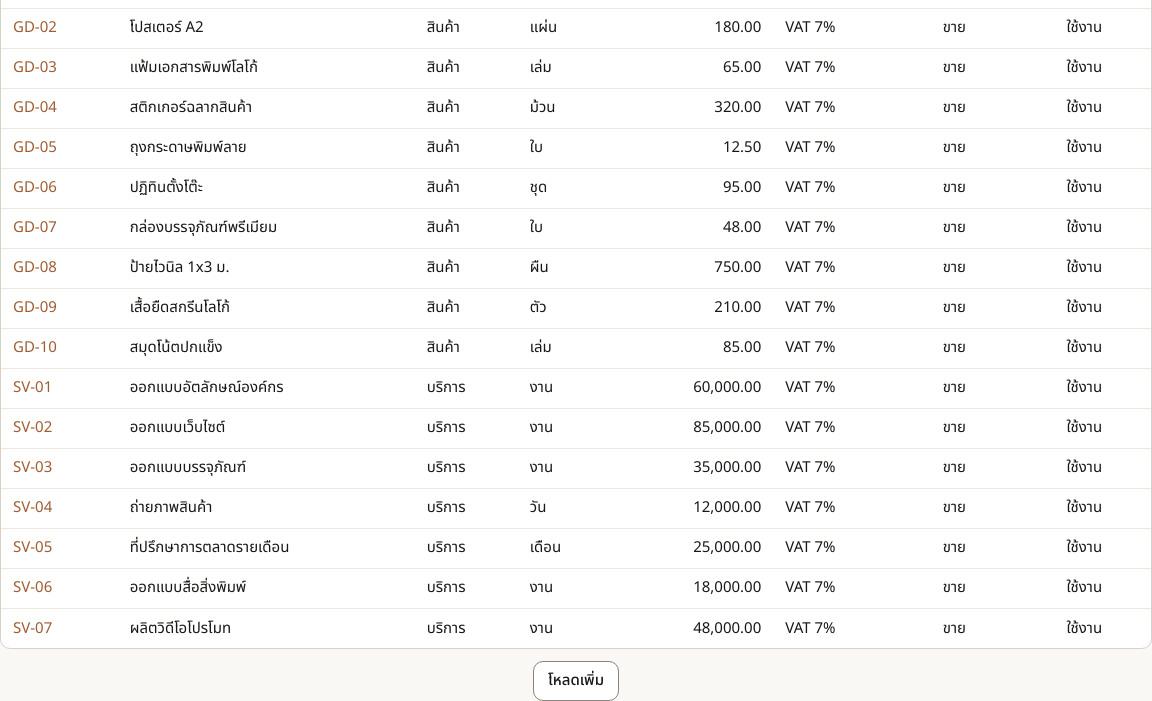
Scenario: item list and form (a record kind with no detail page) › saving from the row dialog updates the list and the item is usable as a purchase item
(page scrolled)
Click the button "SV-02".
click(33, 428)  # box [13,416,52,440]
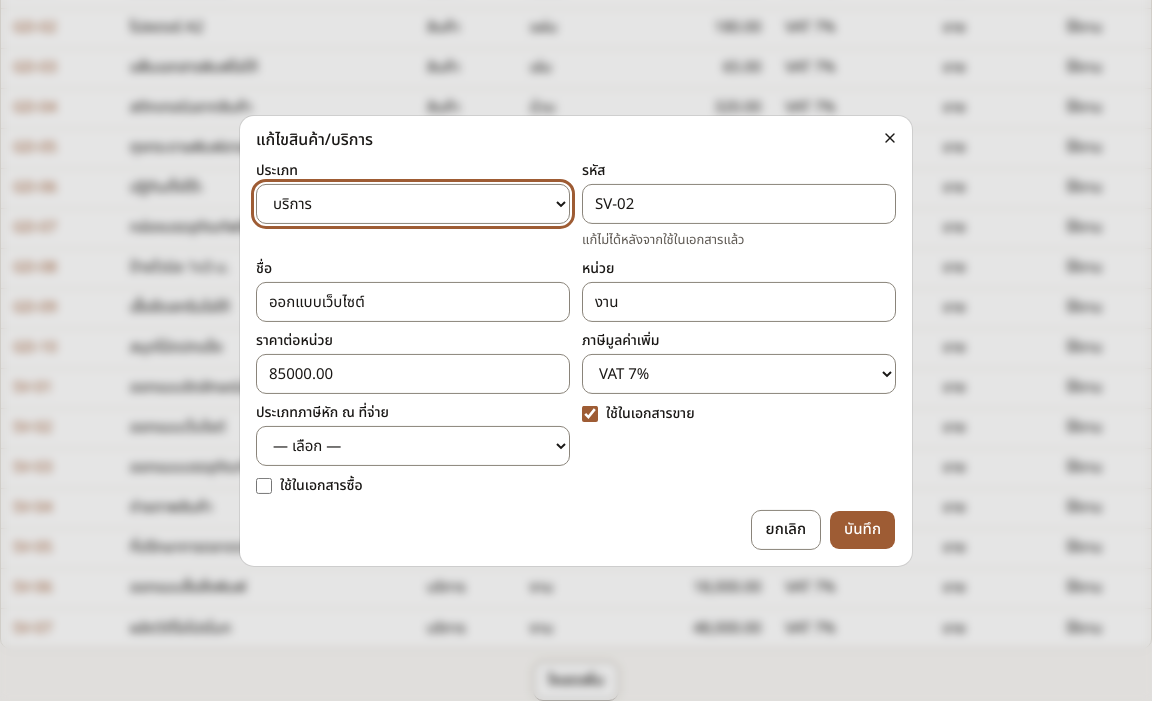
Click the checkbox labelled "ใช้ในเอกสารซื้อ".
click(264, 486)  # box [256,478,272,494]
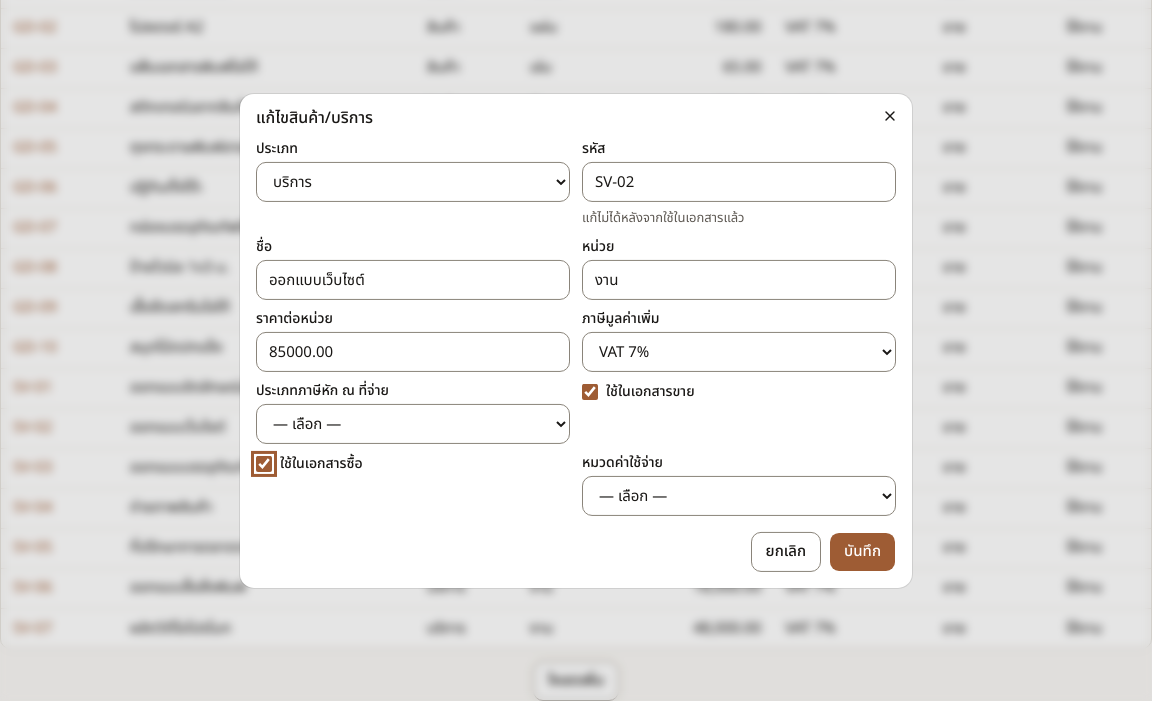
Select "ค่าบริการ" in the dropdown labelled "หมวดค่าใช้จ่าย" at (739,496), box [582,476,896,516]
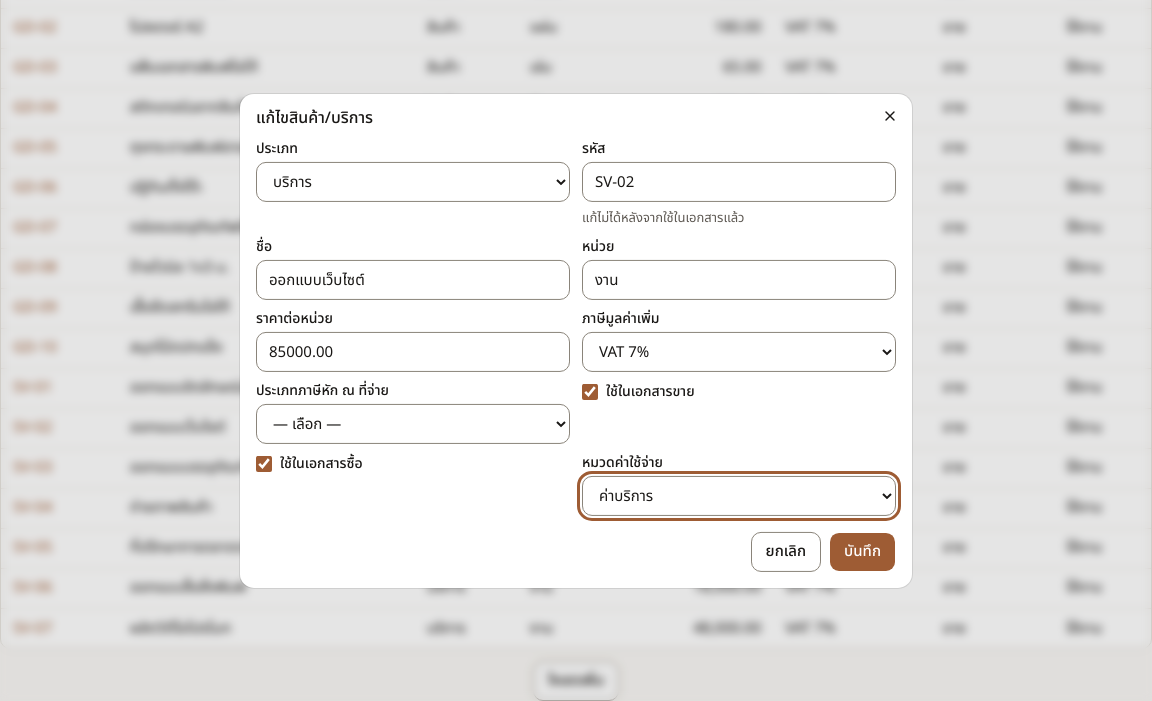
Click the button "บันทึก".
click(863, 552)  # box [829,532,896,572]
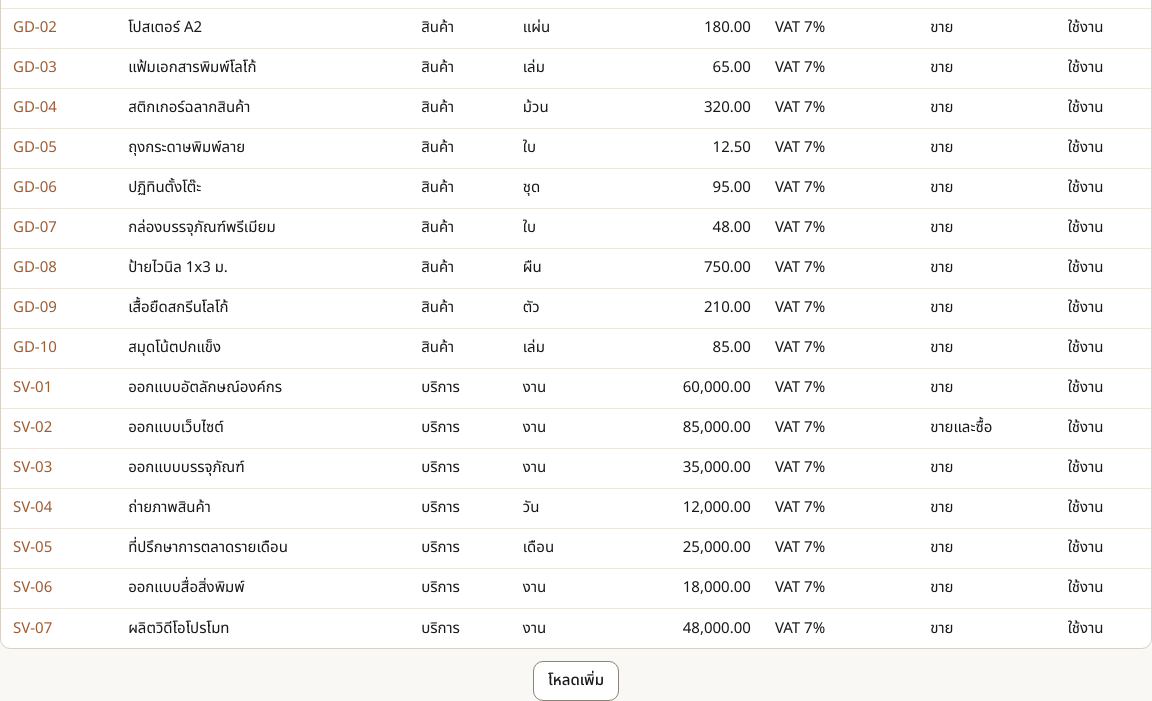
Now the dialog is gone
Now the text "ขายและซื้อ" is shown, box [918,408,1056,448]
